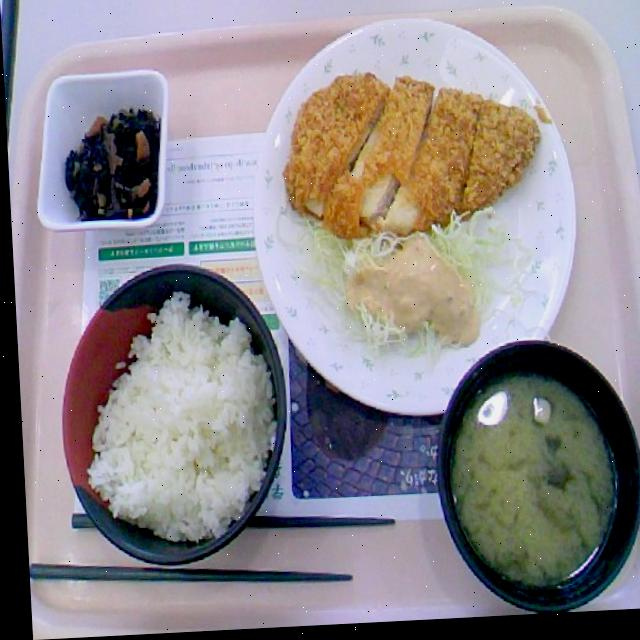米饭主食: (37, 252, 284, 569)
